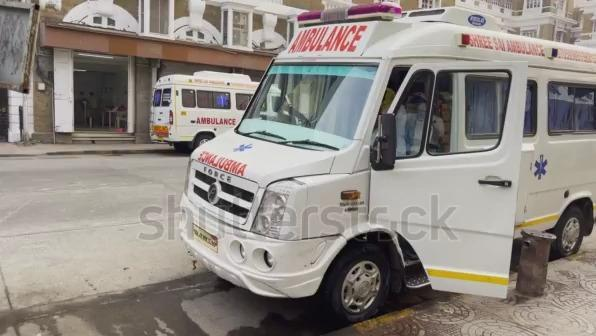Ambulance: (284, 23, 371, 54), (533, 154, 549, 181), (196, 116, 237, 126)
